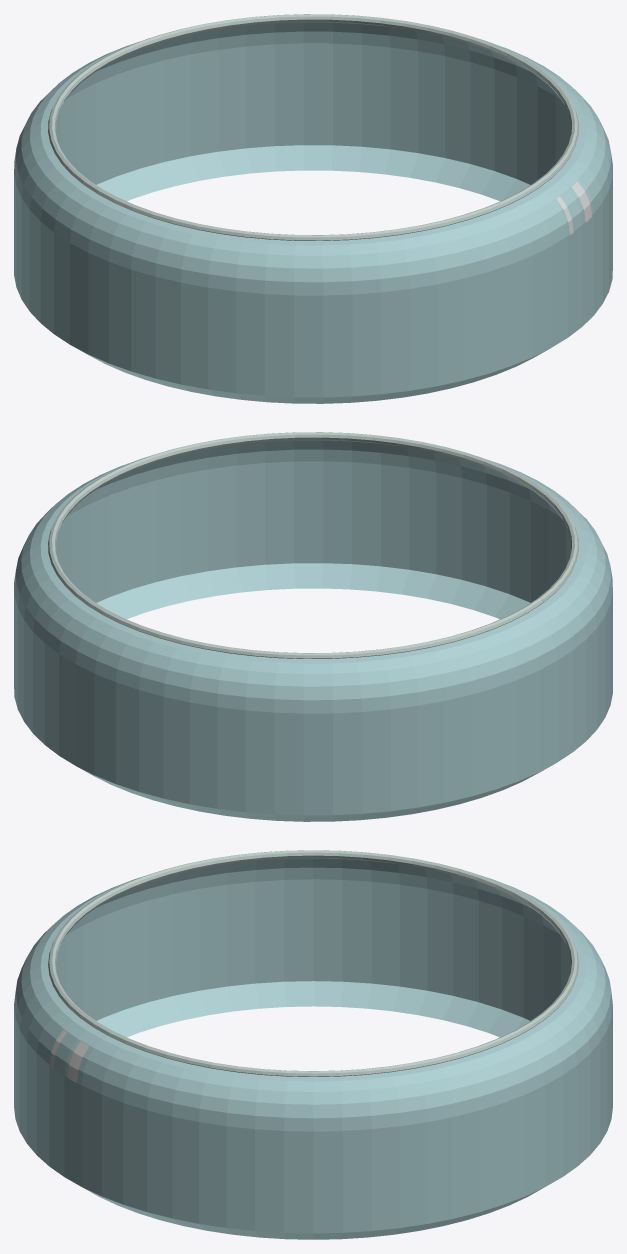
The model's file is goo_jar_glass_3_mid.fbx.
3 views of the same model, one above another, from view 1: azimuth 30°, elevation 25°; view 2: azimuth 150°, elevation 25°; view 3: azimuth 270°, elevation 25° (orthographic).
Visible parts, largest first — view 1: goo_jar_glass_3_mid; view 2: goo_jar_glass_3_mid; view 3: goo_jar_glass_3_mid.
Part boxes in pixels (x1=…): goo_jar_glass_3_mid: x1=14, y1=14, x2=612, y2=403; goo_jar_glass_3_mid: x1=14, y1=432, x2=612, y2=821; goo_jar_glass_3_mid: x1=14, y1=850, x2=612, y2=1239.
Bounding box in the file's own units: 48 × 14.32 × 48.
